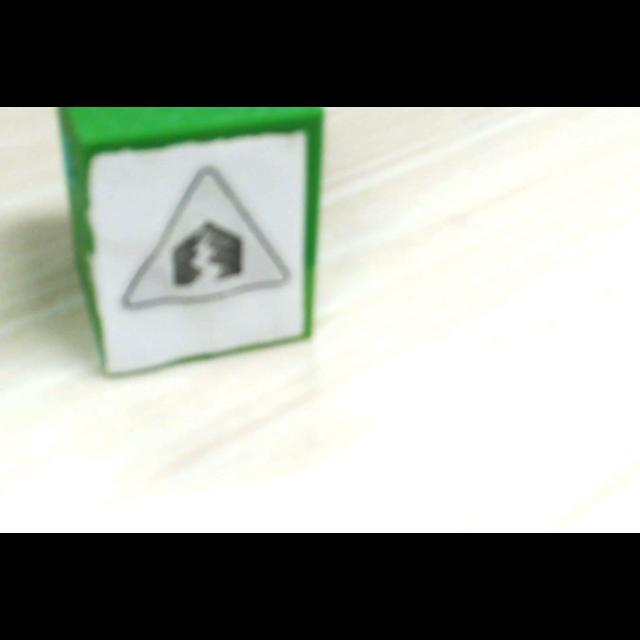Earthquake: (120, 163, 291, 311)
